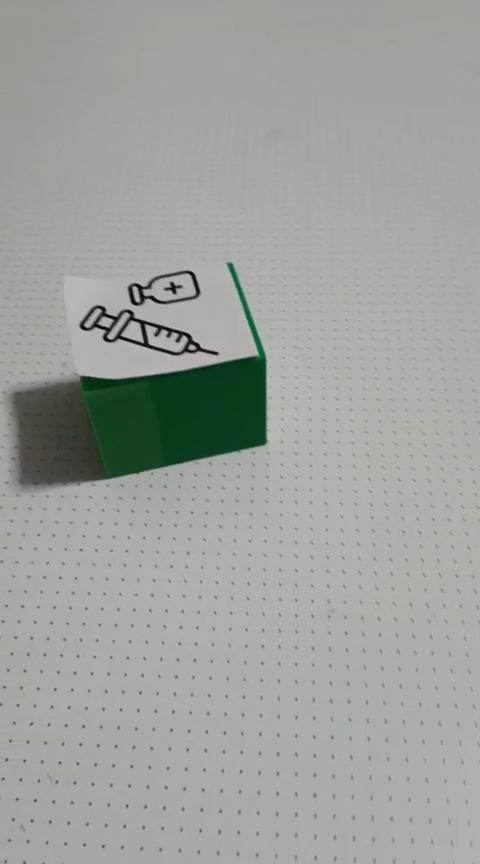antiseptic cream: (61, 259, 268, 478)
